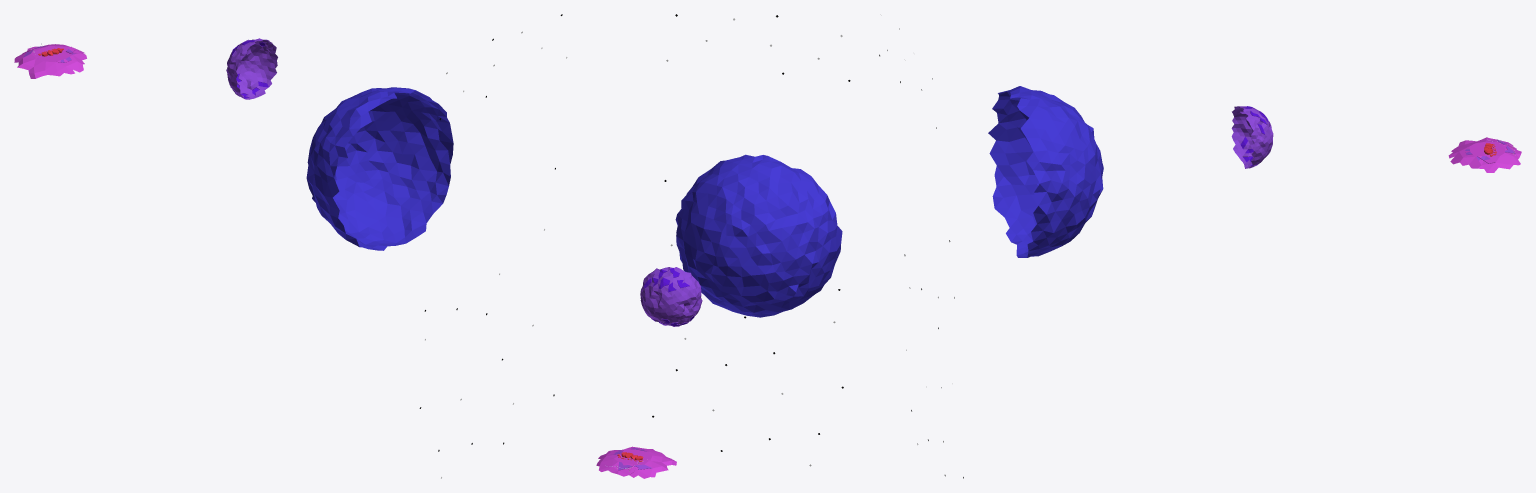
Rendered from Escenario_03.fbx.
3 renders of one model, left to right at view 1: azimuth 30°, elevation 25°; view 2: azimuth 150°, elevation 25°; view 3: azimuth 270°, elevation 25°, orthographic.
Parts seen in each view (by area): view 1: Escenario3Completo; view 2: Escenario3Completo; view 3: Escenario3Completo.
Boxes of the visible parts, bbox=[...] form: Escenario3Completo: bbox=[14, 14, 567, 478]; Escenario3Completo: bbox=[596, 14, 850, 478]; Escenario3Completo: bbox=[879, 14, 1521, 478].
Size of the model in its own units: 12626 by 19003 by 25239.
